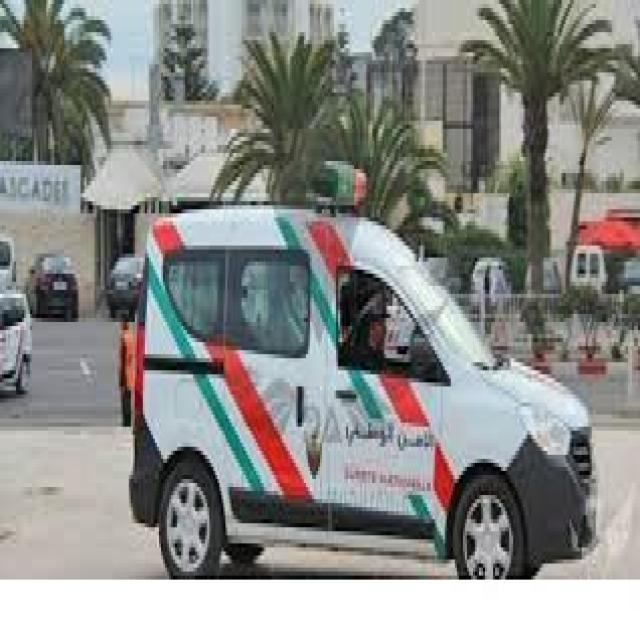police: (130, 160, 594, 580)
